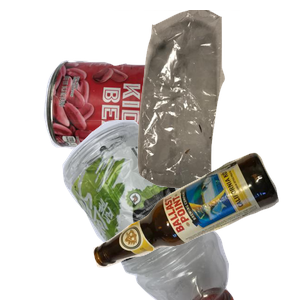glass: (91, 150, 300, 300)
metal: (41, 58, 240, 207)
plastic: (25, 120, 252, 300)
trash: (114, 10, 300, 190)
